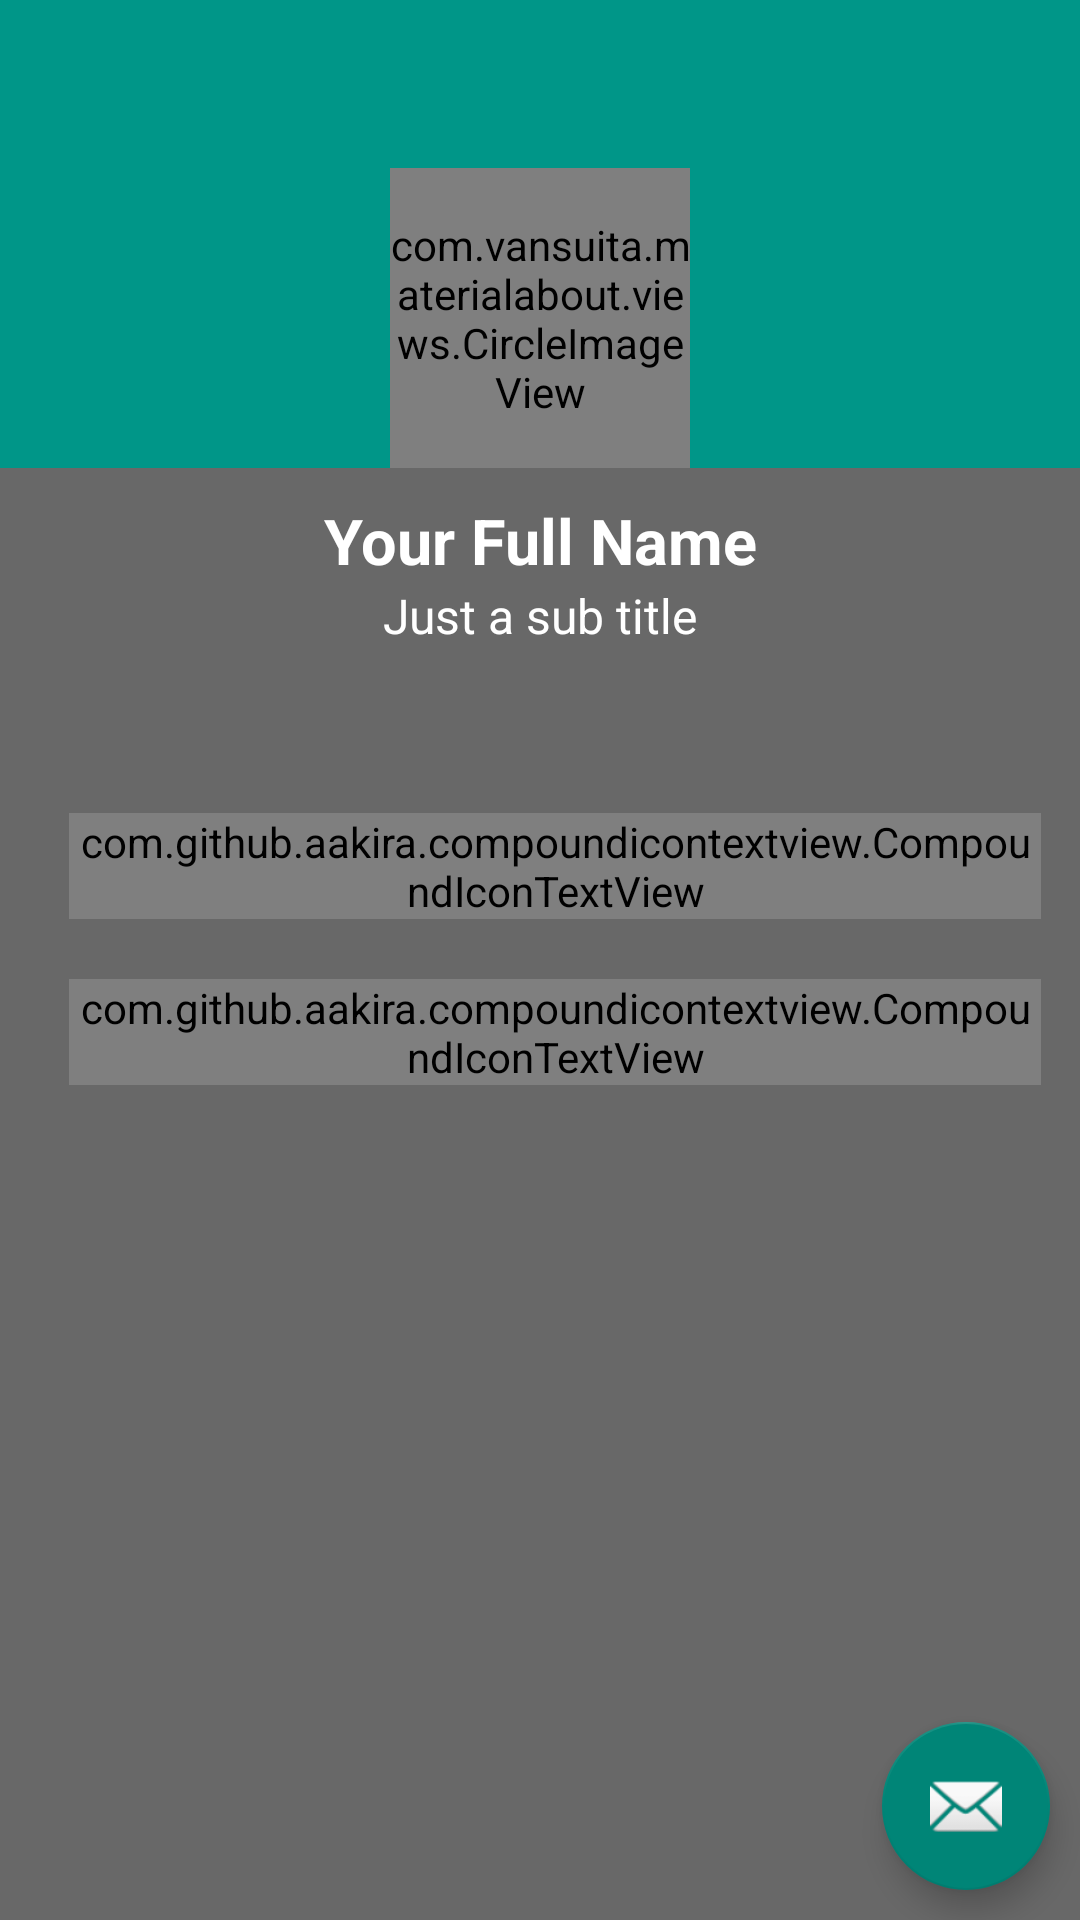

Icon click points for this 1080 × 1920 phone screenshot, format (x,y):
email: (966,1806)
